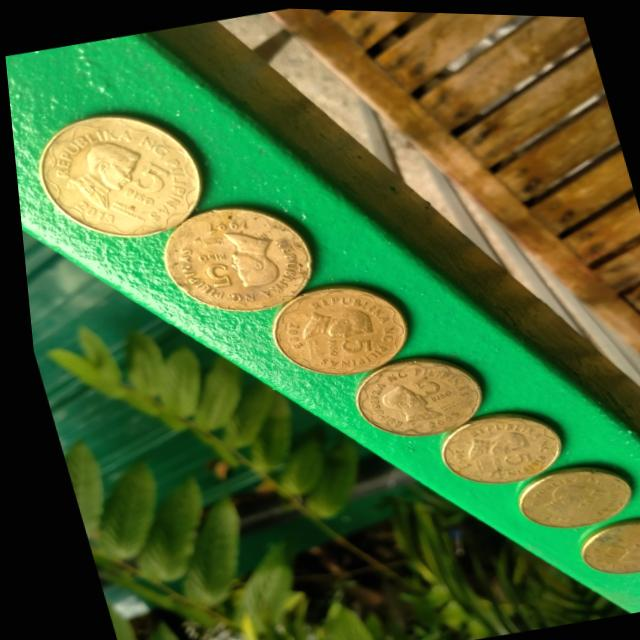5_Old_Front: (169, 202, 311, 321), (274, 287, 397, 379), (351, 353, 468, 442)
